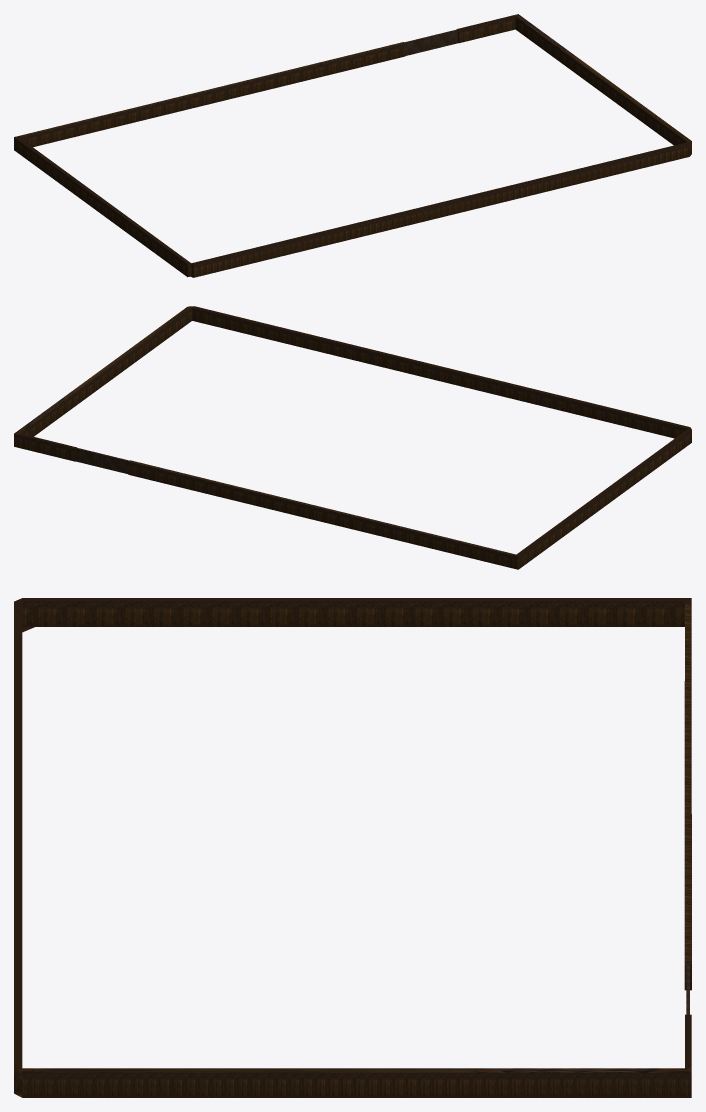
File: Fencs.fbx
3 views of the same model, one above another, from view 1: azimuth 30°, elevation 25°; view 2: azimuth 150°, elevation 25°; view 3: azimuth 270°, elevation 25° (orthographic). The views are drawn at different scales.
Visible parts, largest first — view 1: Fence; view 2: Fence; view 3: Fence.
Part boxes in pixels (<box>): Fence: <box>14,14,691,277</box>; Fence: <box>14,306,691,569</box>; Fence: <box>14,598,691,1097</box>.
Bounding box in the file's own units: 518 × 12.95 × 313.
Materials: 2 (2 with a texture image).
